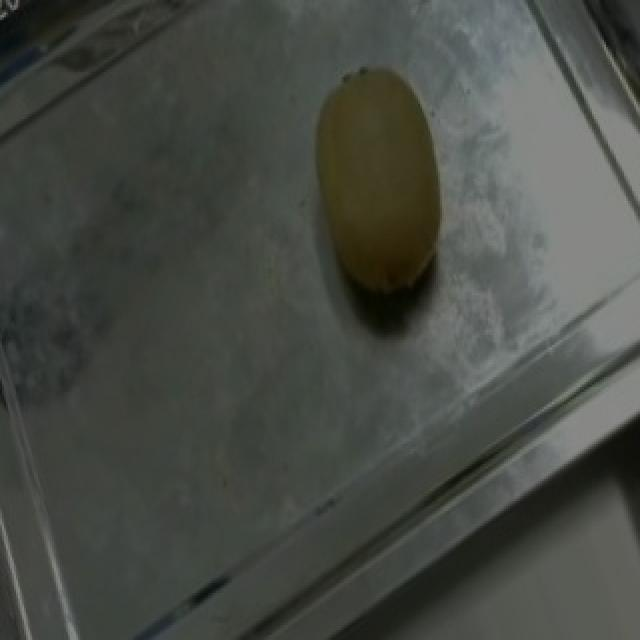Fruit: (272, 42, 486, 340)
